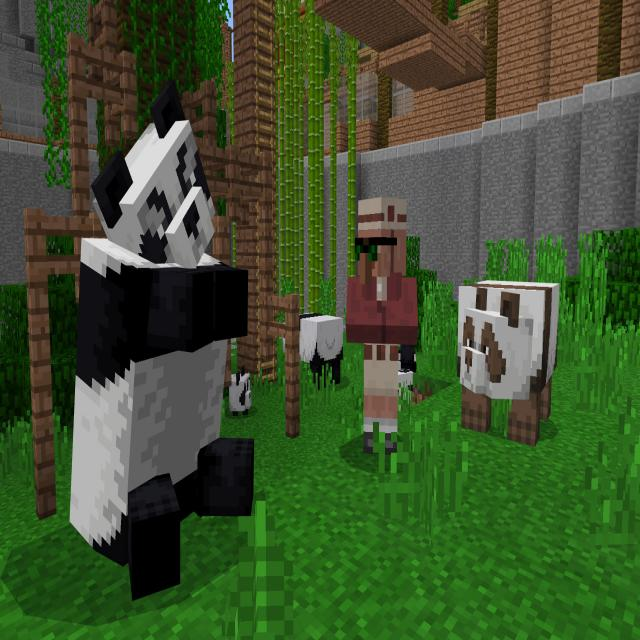Panda: (71, 78, 256, 604), (455, 276, 561, 447), (280, 306, 344, 392), (227, 370, 252, 420)
